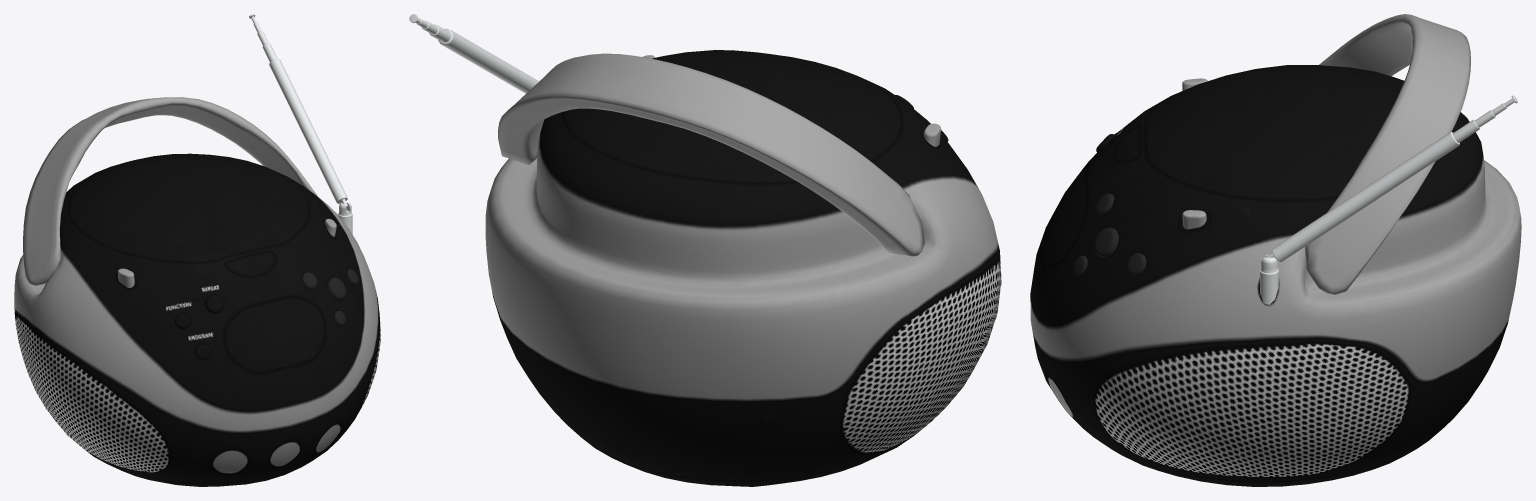
Rendered from boom_box.gltf.
3 renders of one model, left to right at view 1: azimuth 30°, elevation 25°; view 2: azimuth 150°, elevation 25°; view 3: azimuth 270°, elevation 25°, orthographic. The views are drawn at different scales.
Visible parts, largest first — view 1: BoomBoxMesh; view 2: BoomBoxMesh; view 3: BoomBoxMesh.
Part boxes in pixels (left/top/right/bottom): BoomBoxMesh: left=14, top=14, right=380, bottom=486; BoomBoxMesh: left=409, top=14, right=1001, bottom=486; BoomBoxMesh: left=1030, top=14, right=1521, bottom=486.
Size of the model in its own units: 0.3175 by 0.3127 by 0.3224.
Materials: 1 (1 with a texture image).
